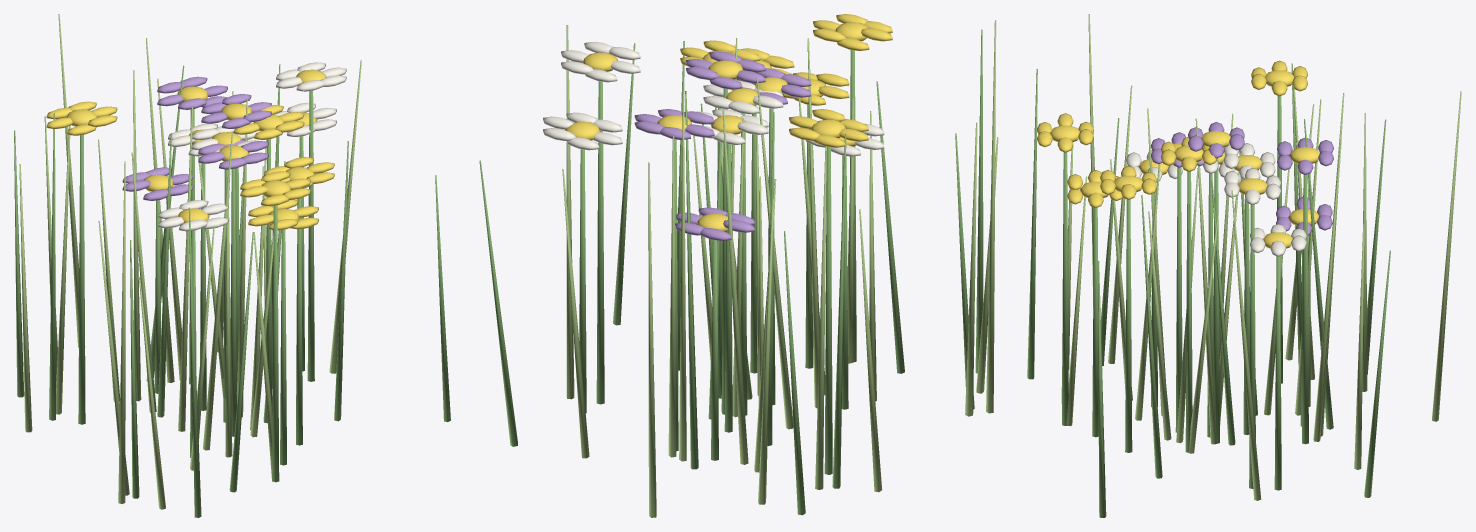
File: wildflower_patch_b.glb
3 views of the same model, side by side, from view 1: azimuth 30°, elevation 25°; view 2: azimuth 150°, elevation 25°; view 3: azimuth 270°, elevation 25° (orthographic). The views are drawn at different scales.
Visible parts, largest first — view 1: flower_4_stem, flower_7_stem, blade_32, flower_3_stem, blade_35, flower_8_stem, blade_12, blade_6, blade_31, flower_13_stem, flower_1_stem, blade_17 (+32 smaller); view 2: flower_4_stem, flower_3_stem, blade_32, blade_15, blade_2, blade_7, blade_17, blade_12, blade_22, blade_31, blade_25, blade_34 (+35 smaller); view 3: flower_7_stem, blade_2, flower_5_stem, flower_1_stem, blade_25, blade_6, blade_34, flower_12_stem, flower_11_stem, flower_8_stem, blade_18, blade_1 (+34 smaller).
Part boxes in pixels (box(x1,y1,x2,y2)): flower_4_stem: box(78, 135, 85, 424); flower_7_stem: box(272, 205, 279, 482); blade_32: box(118, 161, 125, 503); flower_3_stem: box(307, 90, 314, 381); blade_35: box(203, 134, 232, 450); flower_8_stem: box(230, 168, 236, 436); blade_12: box(49, 113, 55, 420); blade_6: box(188, 207, 201, 517); blade_31: box(178, 106, 192, 431); flower_13_stem: box(280, 229, 286, 465); flower_1_stem: box(296, 198, 302, 445); blade_17: box(133, 70, 141, 401); flower_4_stem: box(824, 146, 832, 474); flower_3_stem: box(596, 81, 604, 404); blade_32: box(986, 20, 996, 413); blade_15: box(685, 91, 698, 469); blade_2: box(648, 162, 656, 517); blade_7: box(679, 92, 686, 461); blade_17: box(722, 109, 748, 464); blade_12: box(832, 134, 846, 488); blade_22: box(815, 146, 826, 489); blade_31: box(756, 77, 793, 429); blade_25: box(566, 25, 574, 399); blade_34: box(668, 136, 676, 457); flower_7_stem: box(1062, 152, 1068, 425); blade_2: box(1432, 91, 1461, 421); flower_5_stem: box(1302, 174, 1308, 444); flower_1_stem: box(1125, 199, 1132, 452); blade_25: box(1231, 190, 1261, 500); blade_6: box(1027, 69, 1037, 379); blade_34: box(1313, 140, 1341, 441); flower_12_stem: box(1274, 256, 1281, 490); flower_11_stem: box(1213, 158, 1219, 443); flower_8_stem: box(1175, 167, 1182, 432); blade_18: box(1141, 195, 1162, 478); blade_1: box(1195, 118, 1216, 444).
Size of the model in its own units: 0.5692 by 0.5562 by 0.6384.
